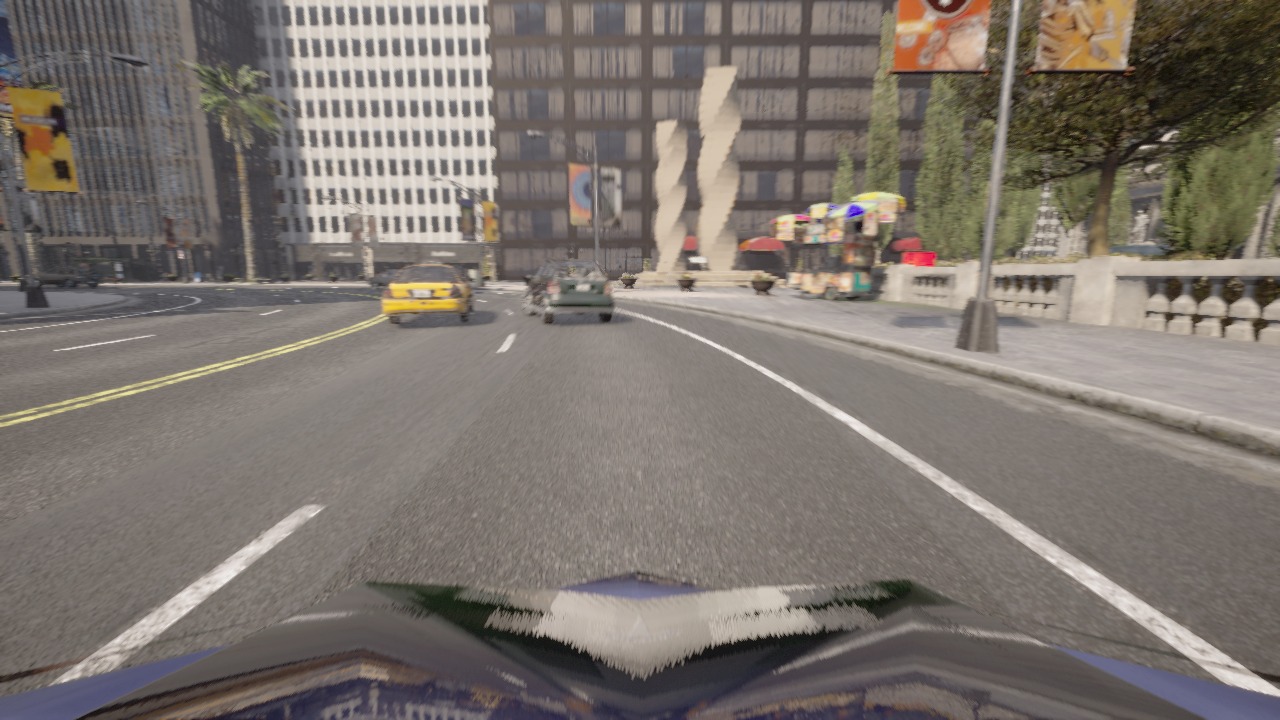cyclist: (0, 569, 1279, 719), (521, 259, 613, 324), (382, 259, 473, 323), (27, 266, 101, 287), (371, 269, 400, 289)
